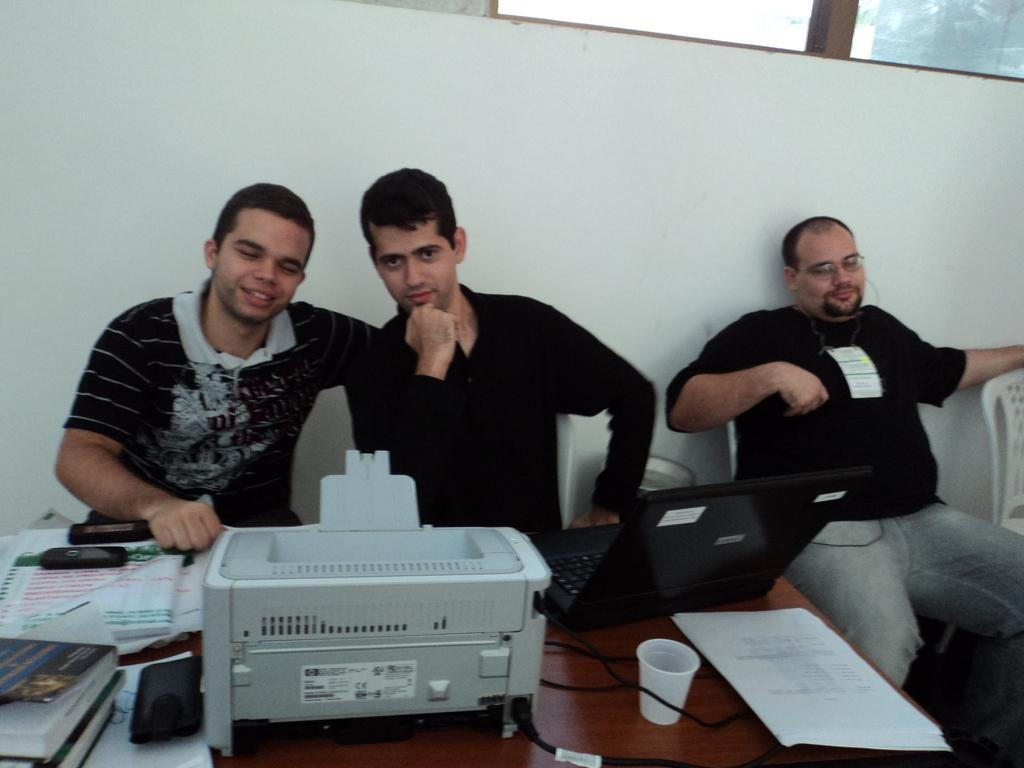Printer: (202, 449, 552, 758)
